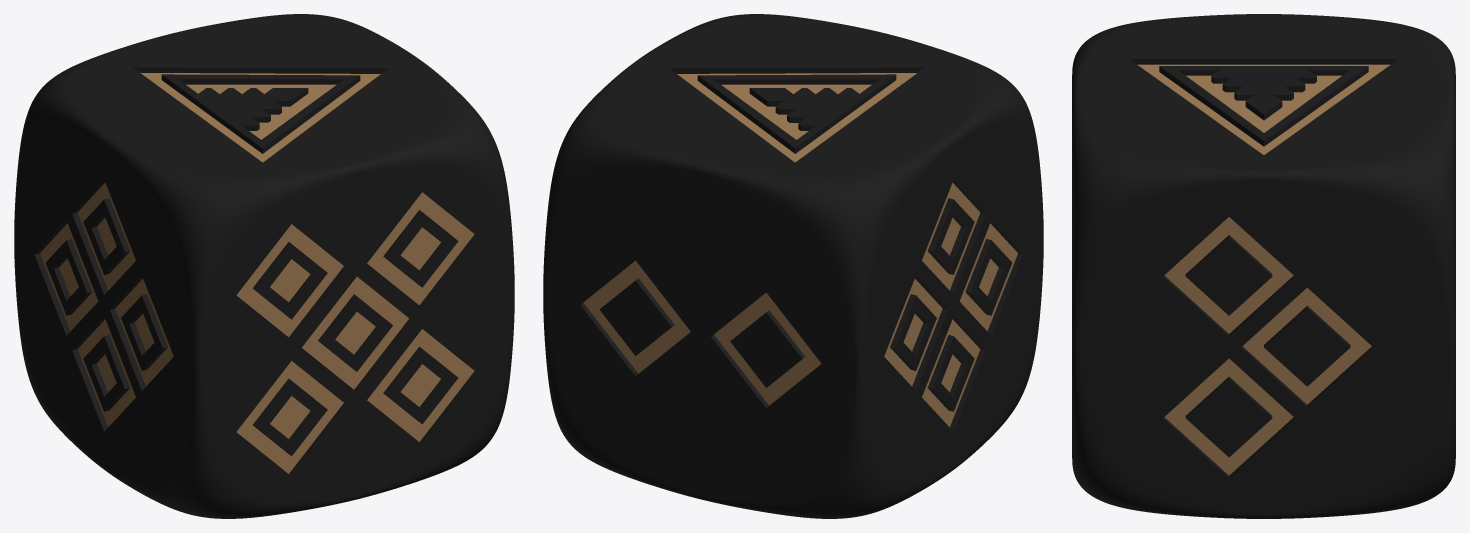
File: degedice_rounded.glb
The picture shows the model from 3 angles, left to right: view 1: azimuth 30°, elevation 25°; view 2: azimuth 150°, elevation 25°; view 3: azimuth 270°, elevation 25°; orthographic projection. The views are drawn at different scales.
Parts seen in each view (by area): view 1: Dice Original V2.001; view 2: Dice Original V2.001; view 3: Dice Original V2.001.
Boxes of the visible parts, x1,y1,x2,y2 form: Dice Original V2.001: (14,14,514,518); Dice Original V2.001: (543,14,1043,518); Dice Original V2.001: (1072,14,1455,518).
Bounding box in the file's own units: 104 × 104 × 104.
